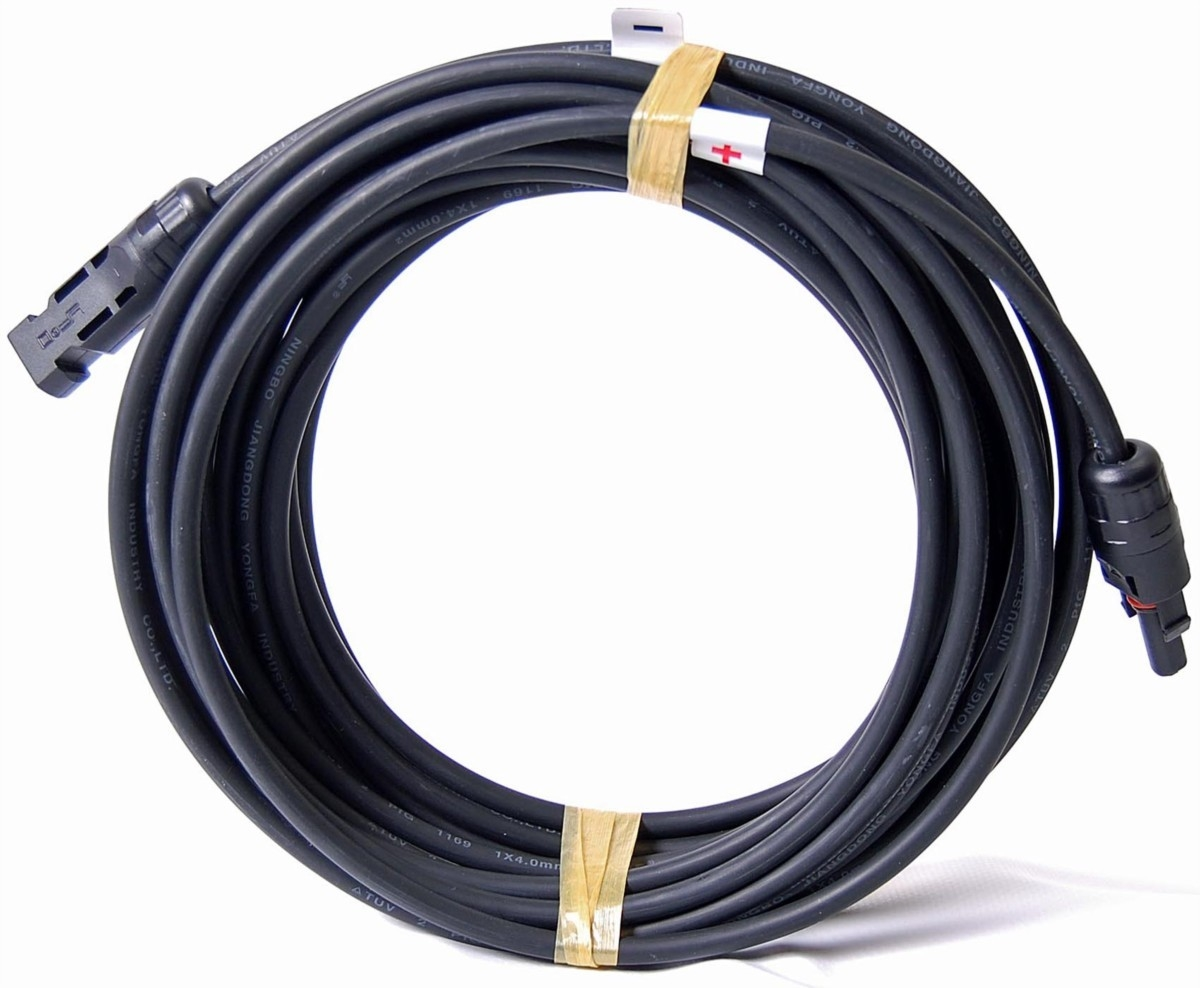Nonrec_Tangler: (16, 37, 1174, 910)
